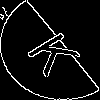K: (25, 25, 90, 78)
